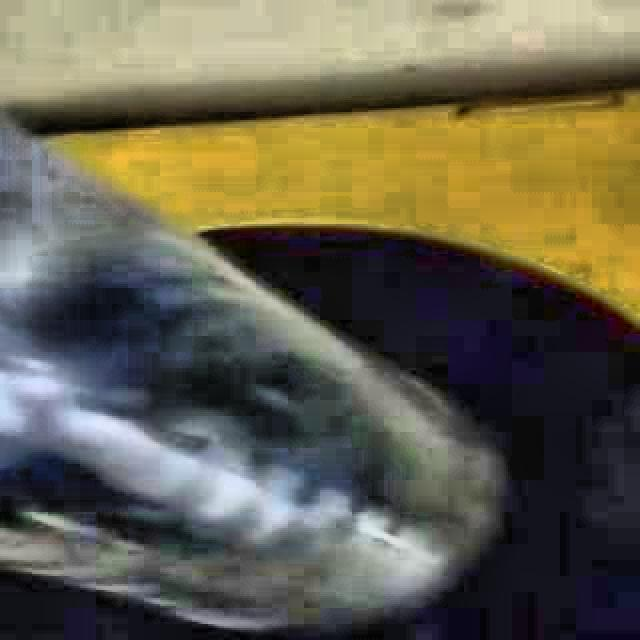plastic: (0, 120, 496, 630)
